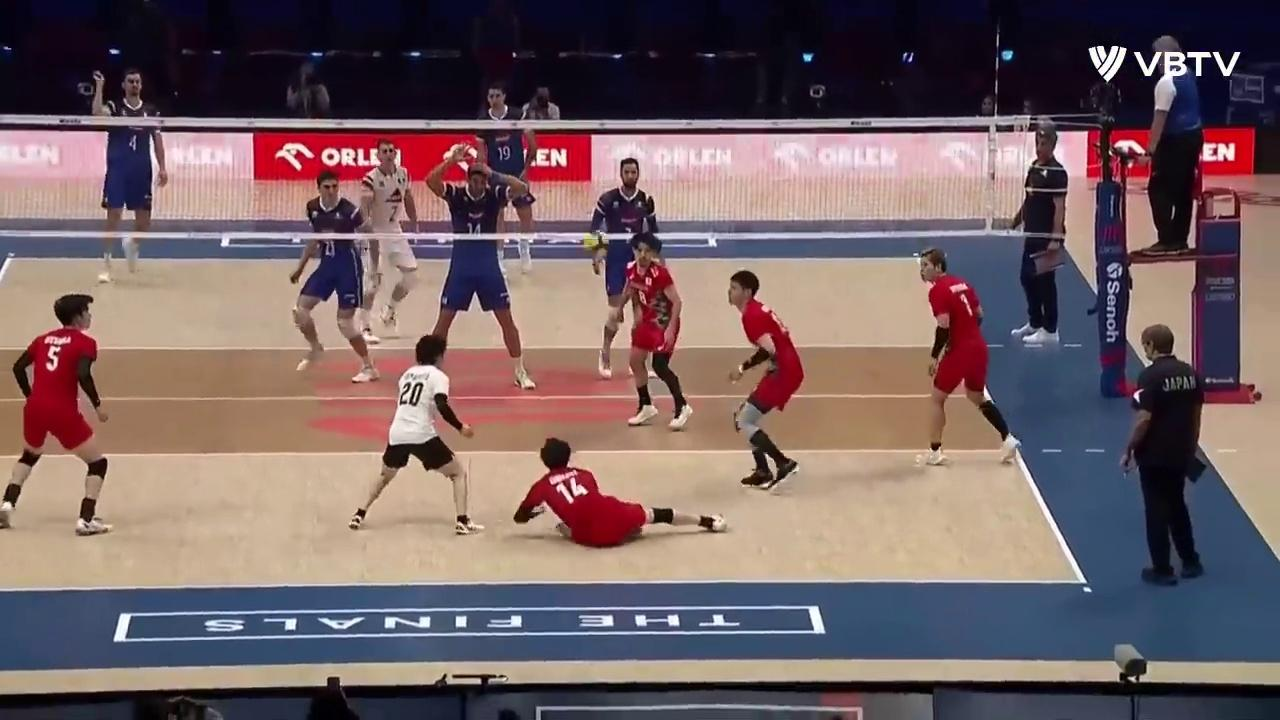ball: (582, 233, 609, 253)
